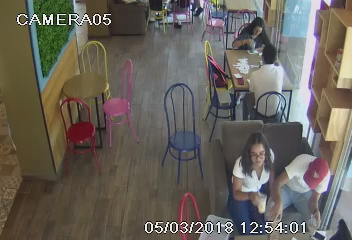libre: (50, 49, 131, 149), (197, 1, 260, 37)
ocupado: (202, 20, 289, 119)
